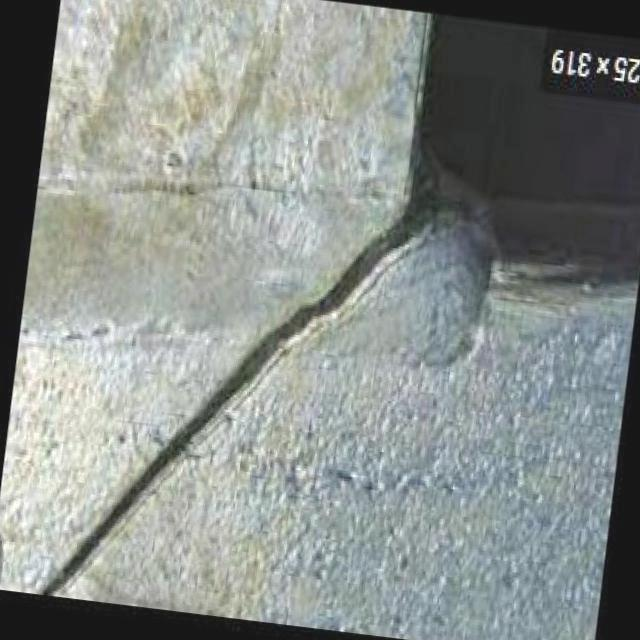defect: (38, 195, 436, 597)
